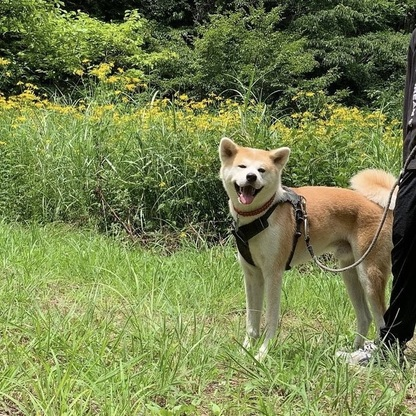akita: (205, 130, 405, 371)
